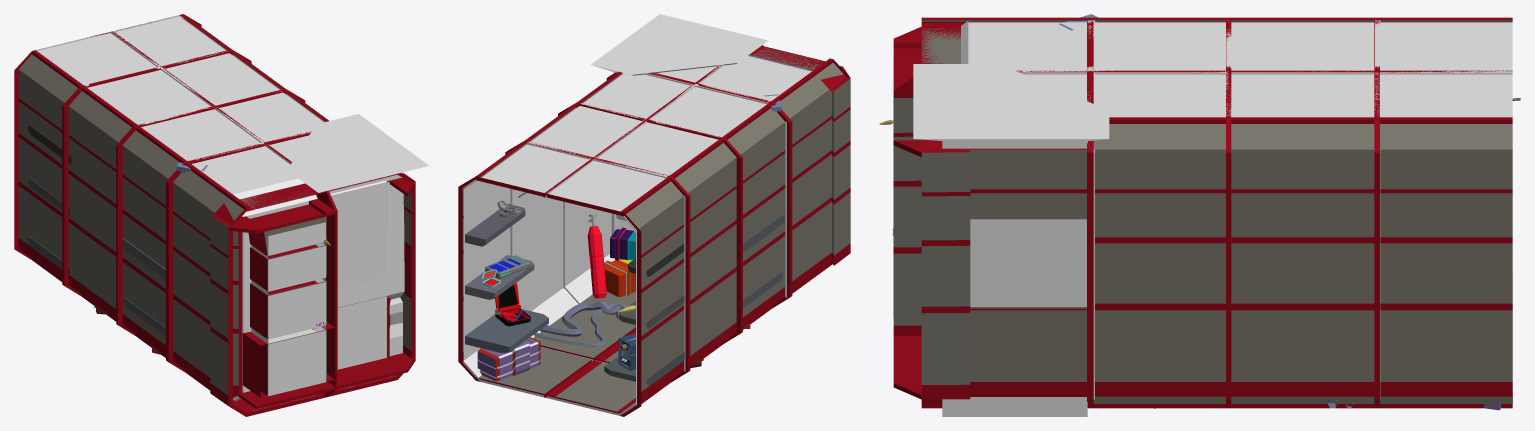
Rendered from doc_room_280_colored.fbx.
3 views of the same model, side by side, from view 1: azimuth 30°, elevation 25°; view 2: azimuth 150°, elevation 25°; view 3: azimuth 270°, elevation 25° (orthographic). The views are drawn at different scales.
Visible parts, largest first — view 1: room.001, room.000, cabin, Plane.001, Plane.005; view 2: room.001, room.000, cabin, Plane.000, box_v2_1.001, Cylinder.001, Plane.003, NurbsPath.001, box1, Plane.002, Plane.004, box2 (+8 smaller); view 3: room.001, room.000, cabin.
Boxes of the visible parts, <box> form: room.001: <box>14,14,415,416</box>; room.000: <box>36,15,386,401</box>; cabin: <box>287,114,429,356</box>; Plane.001: <box>122,238,165,279</box>; Plane.005: <box>123,297,165,335</box>; room.001: <box>458,45,850,416</box>; room.000: <box>463,55,812,415</box>; cabin: <box>591,14,768,259</box>; Plane.000: <box>465,309,548,352</box>; box_v2_1.001: <box>477,337,540,381</box>; Cylinder.001: <box>587,214,606,298</box>; Plane.003: <box>465,203,525,246</box>; NurbsPath.001: <box>540,301,627,336</box>; box1: <box>604,259,635,297</box>; Plane.002: <box>465,255,534,299</box>; Plane.004: <box>604,352,684,385</box>; box2: <box>610,227,635,260</box>; room.001: <box>893,17,1512,408</box>; room.000: <box>893,20,1512,402</box>; cabin: <box>913,64,1109,416</box>.
Size of the model in its own units: 2216 by 2248 by 4485.
